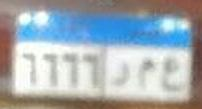6: (61, 51, 80, 88), (83, 53, 102, 89), (41, 52, 59, 88), (20, 50, 37, 86)
ain: (161, 56, 185, 94)
meem: (137, 56, 156, 89)
raa: (110, 60, 132, 92)
